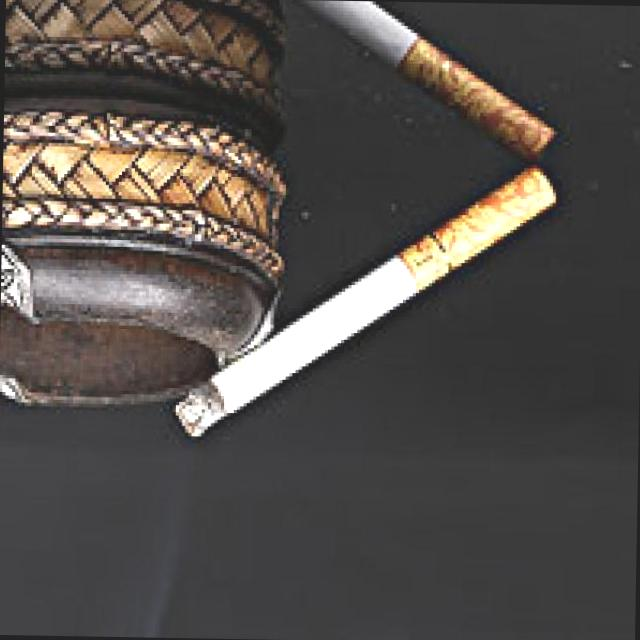smoke: (168, 151, 560, 453)
